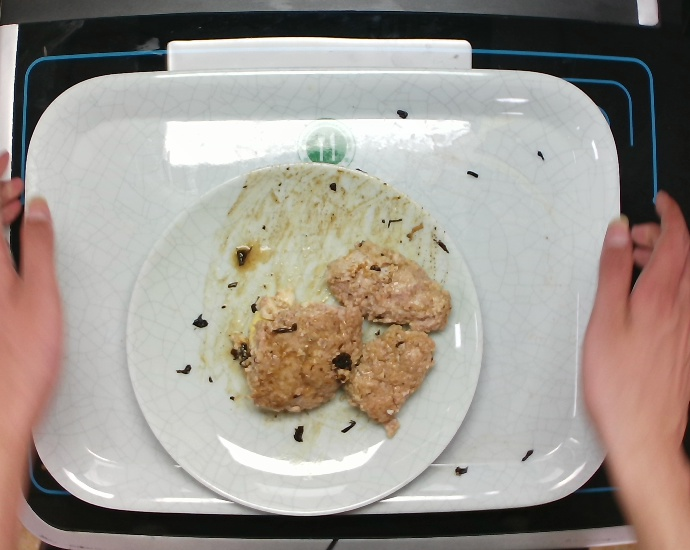JYsf-Da_Yuan_Pan: (122, 157, 483, 522)
